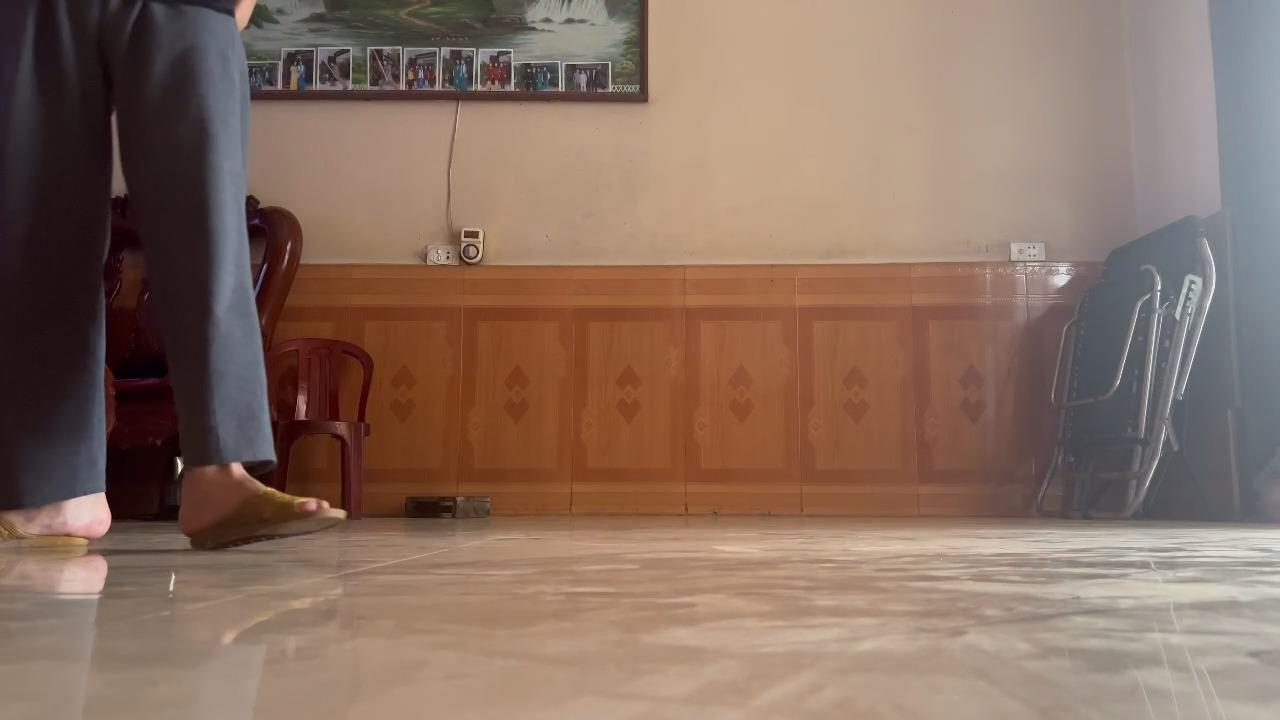no-boot: (167, 479, 353, 557), (0, 490, 122, 559)
